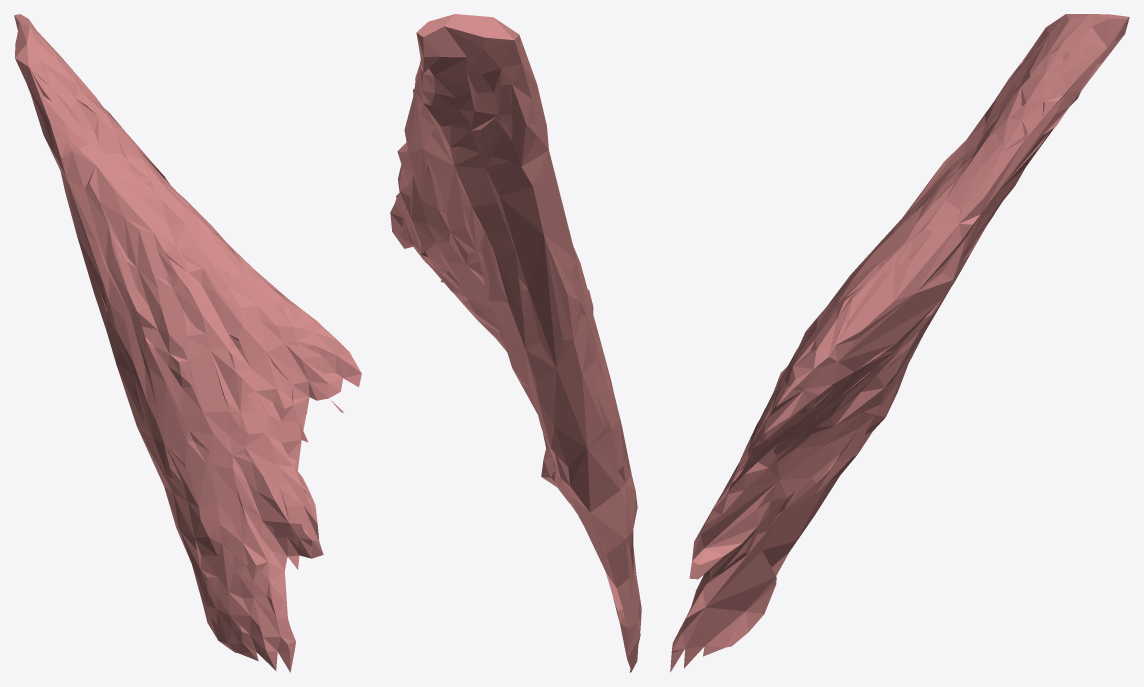
The model's file is Pectoralis_minor_muscle.r.glb.
3 renders of one model, left to right at view 1: azimuth 30°, elevation 25°; view 2: azimuth 150°, elevation 25°; view 3: azimuth 270°, elevation 25°, orthographic. The views are drawn at different scales.
Visible parts, largest first — view 1: Pectoralis_minor_muscle.r; view 2: Pectoralis_minor_muscle.r; view 3: Pectoralis_minor_muscle.r.
Part boxes in pixels (<box>): Pectoralis_minor_muscle.r: <box>14,14,361,672</box>; Pectoralis_minor_muscle.r: <box>390,14,641,672</box>; Pectoralis_minor_muscle.r: <box>670,14,1129,672</box>.
Size of the model in its own units: 0.0563 by 0.1363 by 0.0923.
